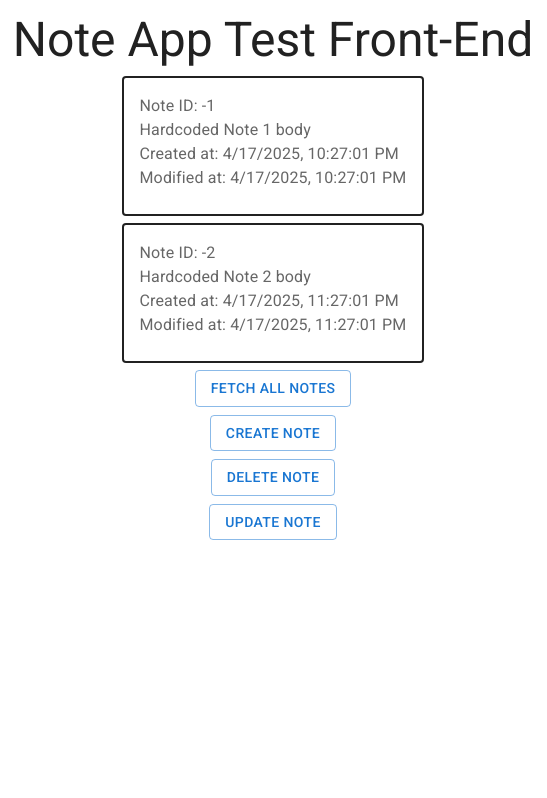
App › fetch all notes button works
This screenshot has width=547, height=798.
Click the button with test id "fetch-all-button" at (273, 388), box [195,370,351,406]
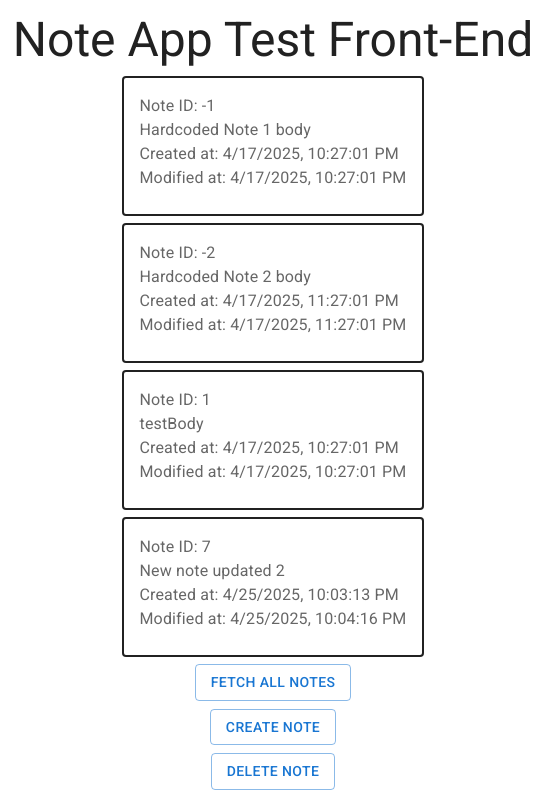
Result: the element with test id "note-card-1" is shown at [122,370,424,510]
Result: the element with test id "note-card-7" is shown at [122,517,424,657]
